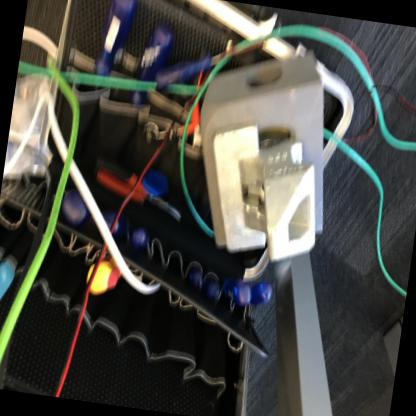CornerCasting: (186, 36, 344, 202)
Twistlock: (190, 110, 334, 284)
